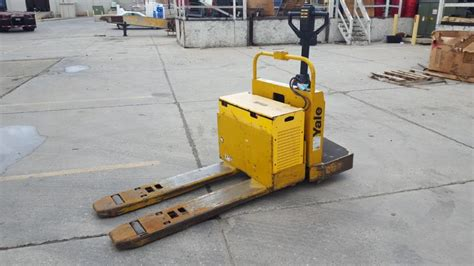Pallet Jack: (93, 3, 354, 248)
